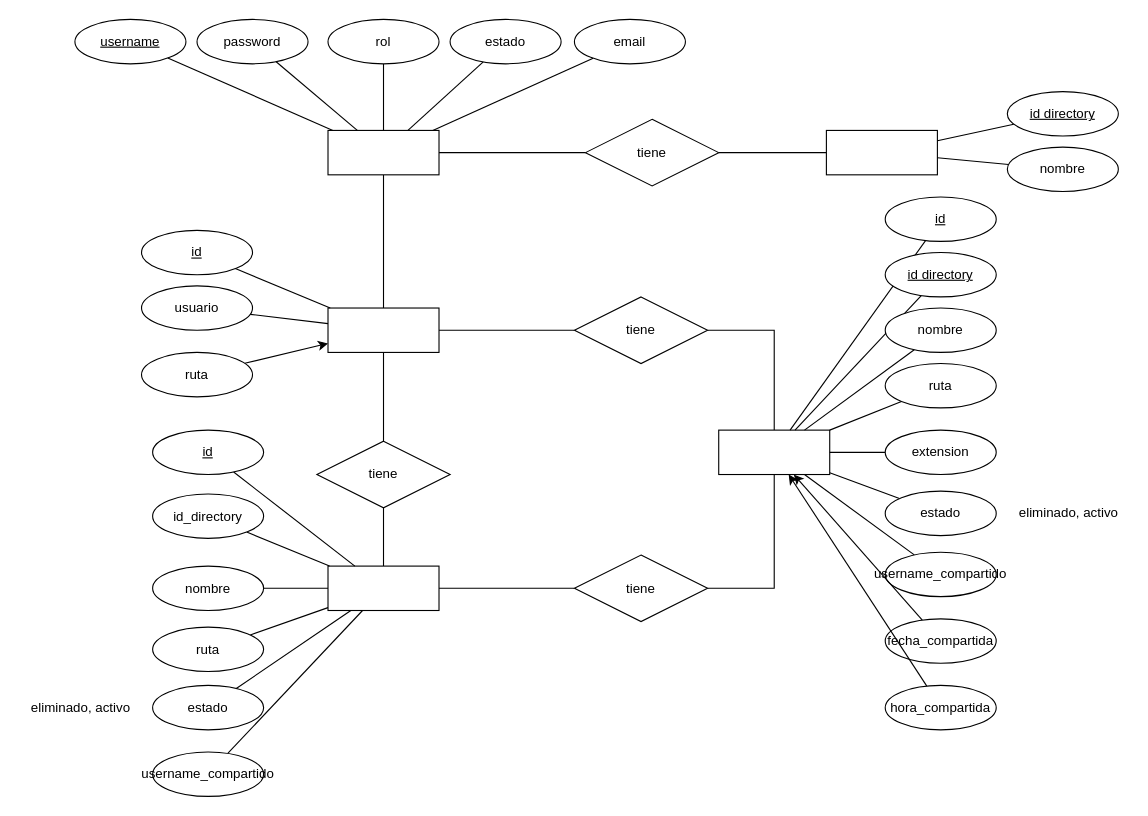
The diagram is 1148 pixels wide and 816 high, and some of its shapes have lost their labels. Each missing label, with the centre of its shape:
"compartidas" belongs at pixel 881 152.
"directory" belongs at pixel 383 587.
"directory_root" belongs at pixel 383 329.
"files" belongs at pixel 774 452.
"users" belongs at pixel 383 152.
